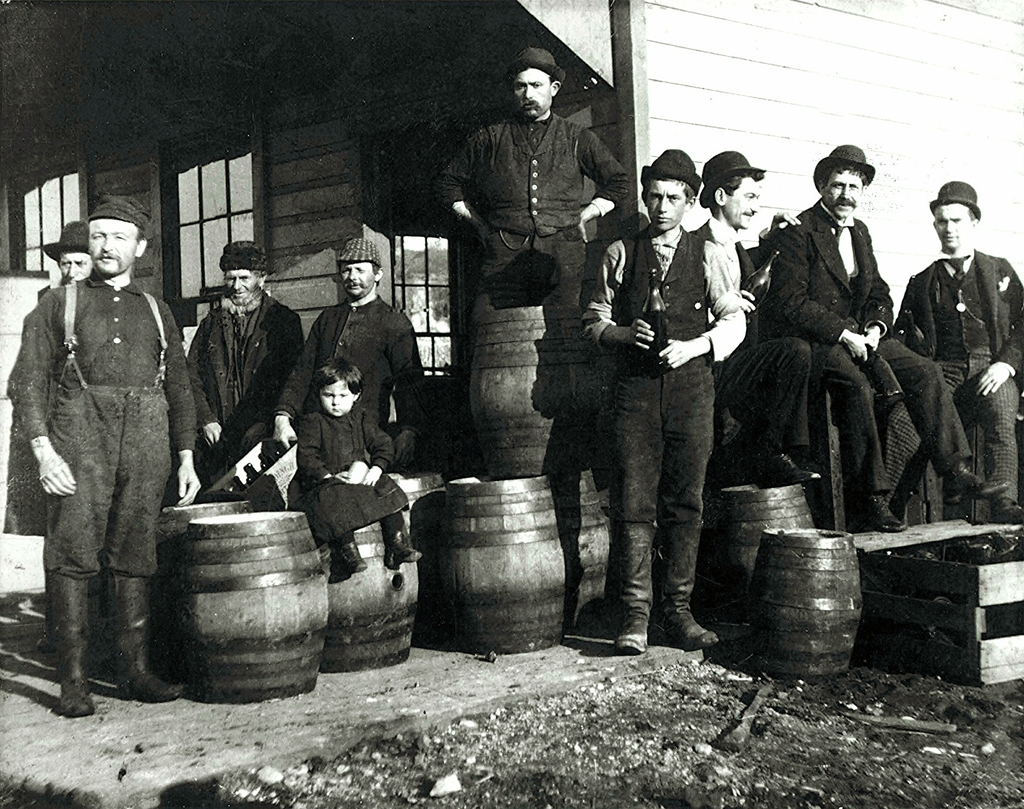Person: (3, 212, 91, 535), (295, 361, 424, 574)
